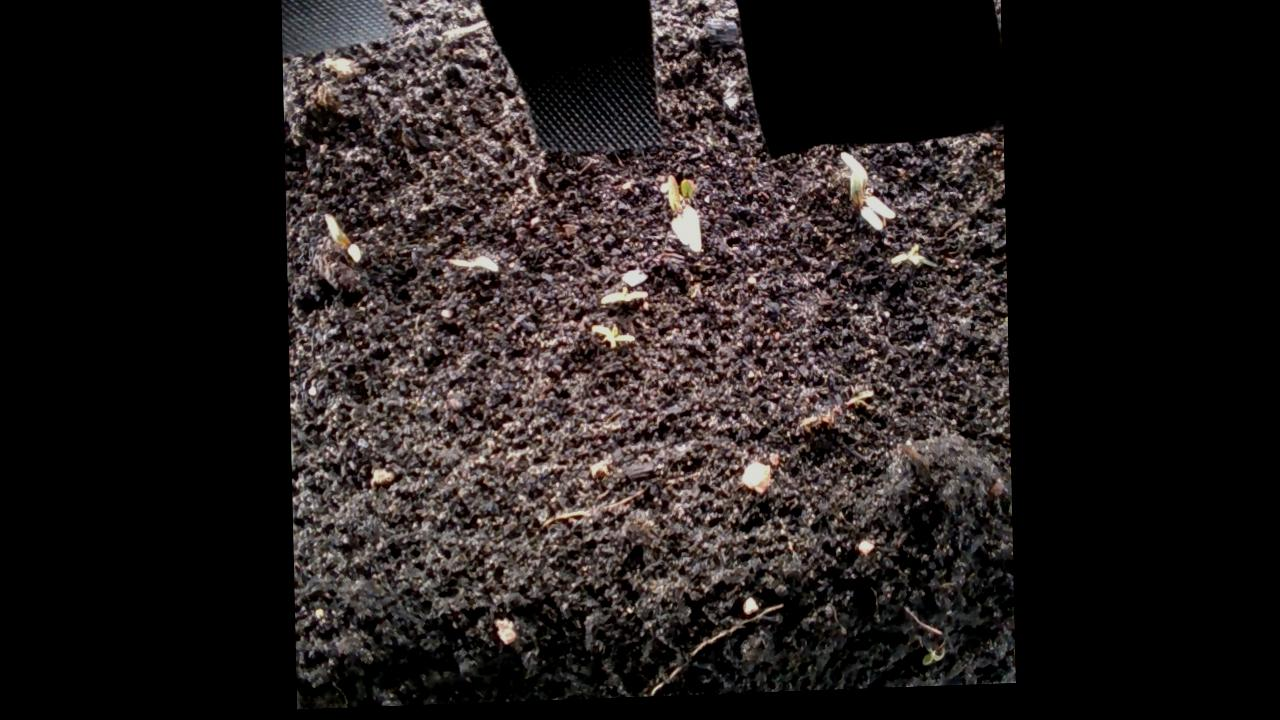weed: (585, 323, 638, 357)
